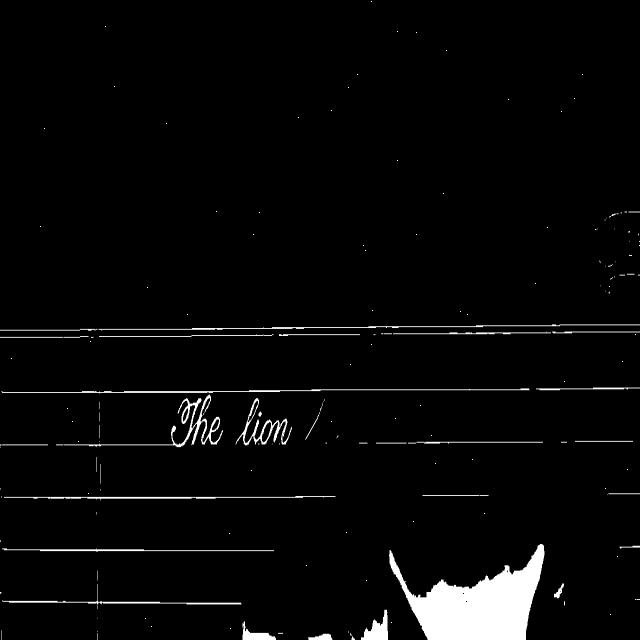hand: (390, 544, 544, 639), (361, 610, 388, 639), (242, 622, 280, 639), (379, 618, 386, 639), (554, 583, 564, 597), (310, 634, 332, 639)
noise: (0, 324, 640, 338), (0, 385, 640, 395), (0, 494, 336, 501), (0, 547, 274, 554), (2, 599, 241, 605), (0, 441, 175, 448), (358, 440, 544, 445), (558, 439, 633, 444), (422, 491, 489, 496), (97, 400, 101, 448), (96, 568, 100, 612), (96, 455, 101, 484), (606, 492, 640, 496), (619, 544, 640, 548), (96, 630, 98, 639)
not-noise: (171, 393, 324, 446)
page-marker: (596, 212, 640, 279)
